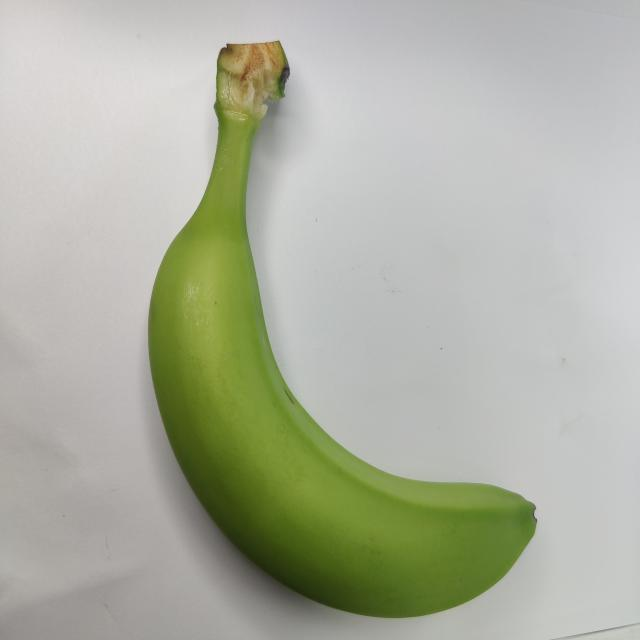Raw: (133, 28, 561, 632)
